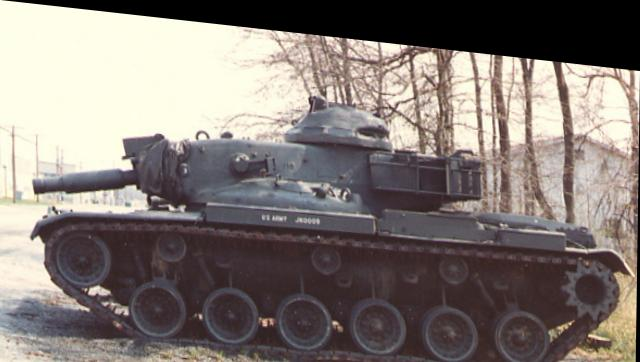tank: (29, 85, 624, 360)
